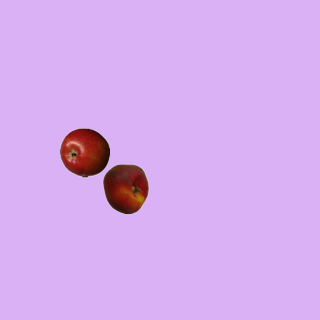Apple Braeburn: (59, 127, 109, 177)
Nectarine Flat: (100, 163, 150, 213)
